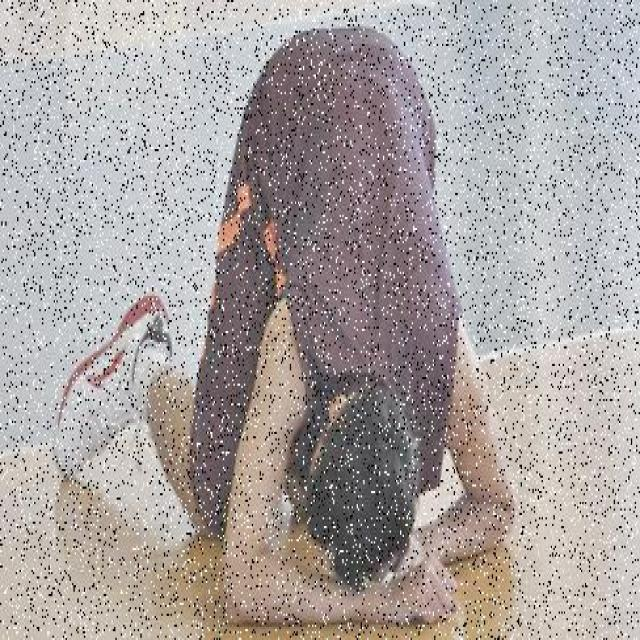fall: (165, 26, 518, 607)
